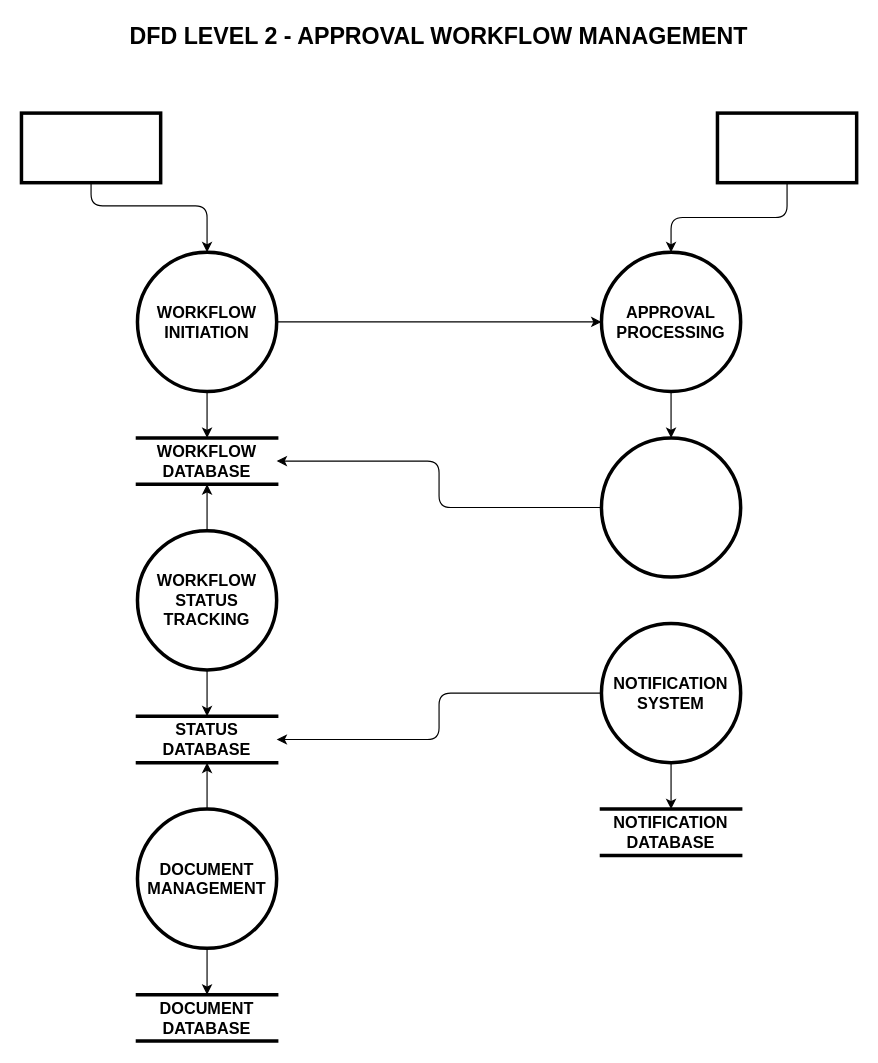
Some shapes in this 878 by 1063 pixel diagram are drawn without their labels. Here are the shapes that lost their labels. From the top down, the centre of each, then its label:
At [90,147]: "INITIATOR".
At [786,147]: "APPROVER".
At [670,507]: "WORKFLOW STEPS".
